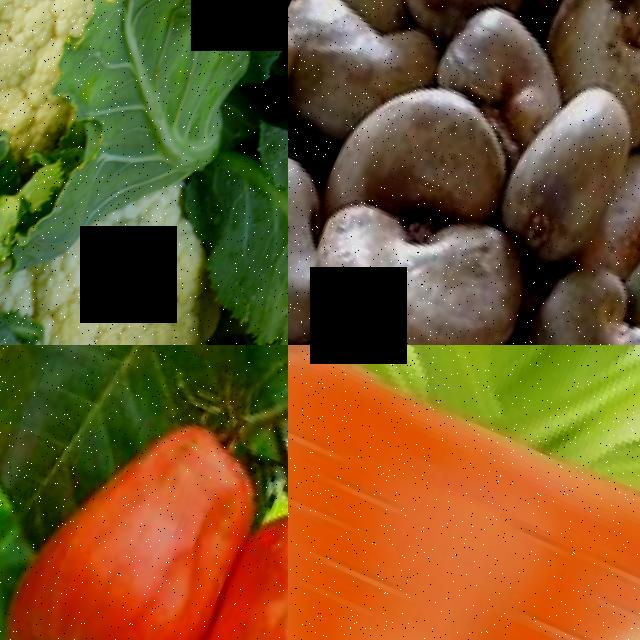carrot: (288, 345, 640, 640)
cashew: (313, 180, 526, 345), (346, 55, 518, 220), (504, 62, 640, 252), (288, 147, 371, 345), (442, 0, 569, 117), (532, 234, 640, 345)
cauliflower: (0, 91, 288, 345), (0, 0, 288, 220)
